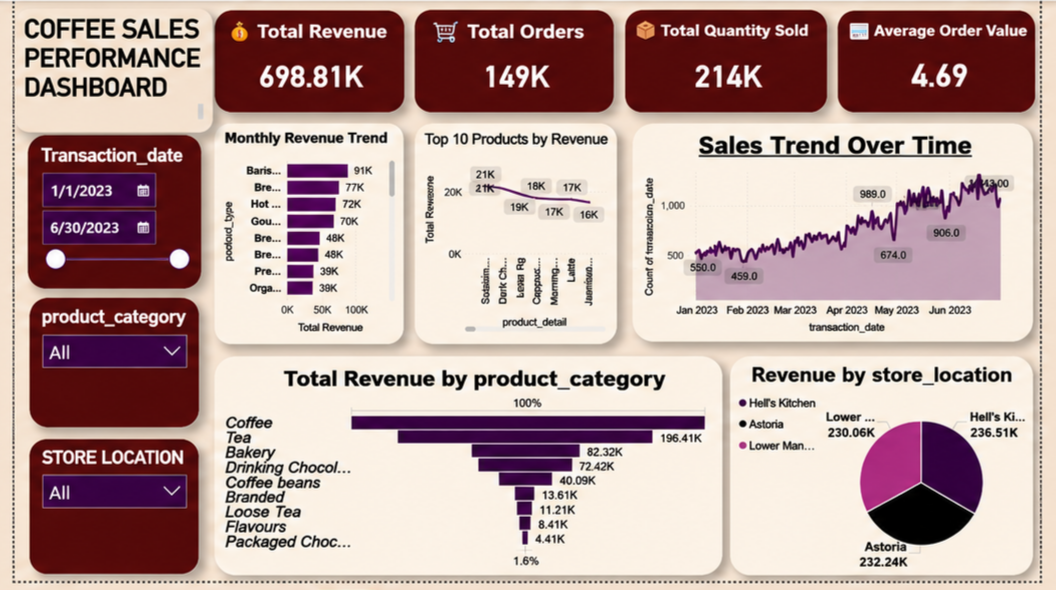

This screenshot's page, from the dashboard's own definition file:
{"tool":"powerbi","page":{"name":"deshboard 1","canvas":[1280,720],"ordinal":0},"visuals":[{"type":"card","fields":{"Values":["Transactions.Total Revenue"]},"box":[246.7,12.4,234.3,126],"z":0},{"type":"card","fields":{"Values":["Transactions.Total Orders"]},"box":[495.3,12.4,250.3,126],"z":1000},{"type":"card","fields":{"Values":["Transactions.Total Quantity Sold"]},"box":[763.3,14.2,250.3,126],"z":2000},{"type":"card","fields":{"Values":["Transactions.Average Order Value"]},"box":[1029.6,16,250.3,126],"z":3000},{"type":"slicer","title":"Transaction_date","fields":{"Values":["Transactions.transaction_date"]},"box":[17.8,166.9,211.2,188.2],"z":4000},{"type":"slicer","title":"STORE LOCATION","fields":{"Values":["Transactions.store_location"]},"box":[16,529,211.2,150.9],"z":5000},{"type":"slicer","title":"product_category","fields":{"Values":["Transactions.product_category"]},"box":[17.8,365.7,211.2,147.3],"z":6000},{"type":"funnel","fields":{"Category":["Transactions.product_category"],"Y":["Transactions.Total Revenue"]},"box":[246.7,440.2,640.8,273.4],"z":7000},{"type":"pieChart","title":" Revenue by store_location","fields":{"Category":["Transactions.store_location"],"Y":["Transactions.Total Revenue"]},"box":[896.4,440.2,371,273.4],"z":8000},{"type":"lineChart","title":"Sales Trend Over Time","fields":{"Y":["CountNonNull(Transactions.transaction_date)"],"Category":["Transactions.transaction_date"]},"box":[770.4,154.4,497,266.3],"z":9000},{"type":"barChart","title":"Monthly Revenue Trend","fields":{"Y":["Transactions.Total Revenue"],"Category":["Transactions.product_type"]},"box":[246.7,154.4,234.3,266.3],"z":10000},{"type":"lineChart","title":"Top 10 Products by Revenue","fields":{"Category":["Transactions.product_detail"],"Y":["Transactions.Total Revenue"]},"box":[497,154.4,250.3,266.3],"z":11000},{"type":"textbox","title":"COFFEE SALES PERFORMANCE DASHBOARD","box":[0,12.4,243.2,154.4],"z":12000}]}

Visuals, with their boxes in screenshot pixels (x1, y1, x2, y2), scaled from the page's 1280x720 canvas onto the 1056x590 screenshot:
card - Transactions.Total Revenue: pyautogui.locateOnScreen(204, 10, 397, 113)
card - Transactions.Total Orders: pyautogui.locateOnScreen(409, 10, 615, 113)
card - Transactions.Total Quantity Sold: pyautogui.locateOnScreen(630, 12, 836, 115)
card - Transactions.Average Order Value: pyautogui.locateOnScreen(849, 13, 1055, 116)
"Transaction_date" slicer: pyautogui.locateOnScreen(15, 137, 189, 291)
"STORE LOCATION" slicer: pyautogui.locateOnScreen(13, 433, 187, 557)
"product_category" slicer: pyautogui.locateOnScreen(15, 300, 189, 420)
funnel - Transactions.product_category x Transactions.Total Revenue: pyautogui.locateOnScreen(204, 361, 732, 585)
" Revenue by store_location" pieChart: pyautogui.locateOnScreen(740, 361, 1046, 585)
"Sales Trend Over Time" lineChart: pyautogui.locateOnScreen(636, 127, 1046, 345)
"Monthly Revenue Trend" barChart: pyautogui.locateOnScreen(204, 127, 397, 345)
"Top 10 Products by Revenue" lineChart: pyautogui.locateOnScreen(410, 127, 617, 345)
"COFFEE SALES PERFORMANCE DASHBOARD" textbox: pyautogui.locateOnScreen(0, 10, 201, 137)
